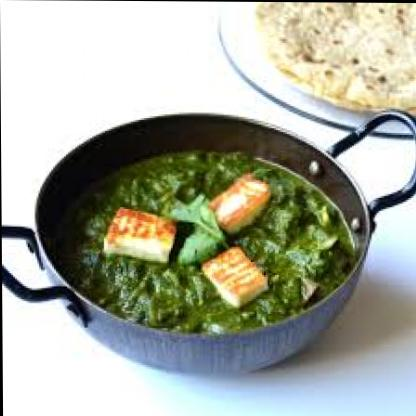palak_paneer: (57, 149, 353, 334)
